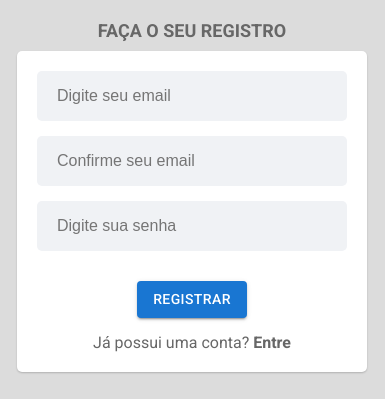
Signup component › shows error message when input fields are empty
Click the button "Registrar" at (192, 300), box [137,281,247,318]
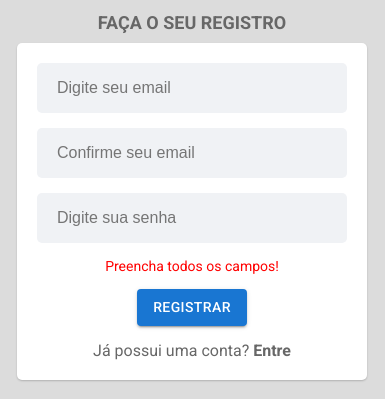
expect the text "Preencha todos os campos!" is shown: met, box [105,258,279,274]
